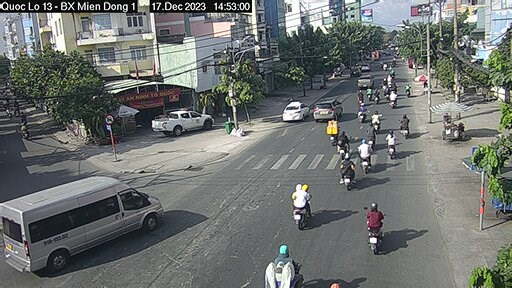car: (10, 170, 176, 283), (145, 111, 227, 141), (279, 88, 309, 131), (311, 97, 349, 124)
motorbike: (288, 176, 316, 234), (359, 200, 387, 254), (267, 239, 296, 288), (358, 138, 379, 173), (337, 155, 356, 193), (336, 128, 348, 171)
